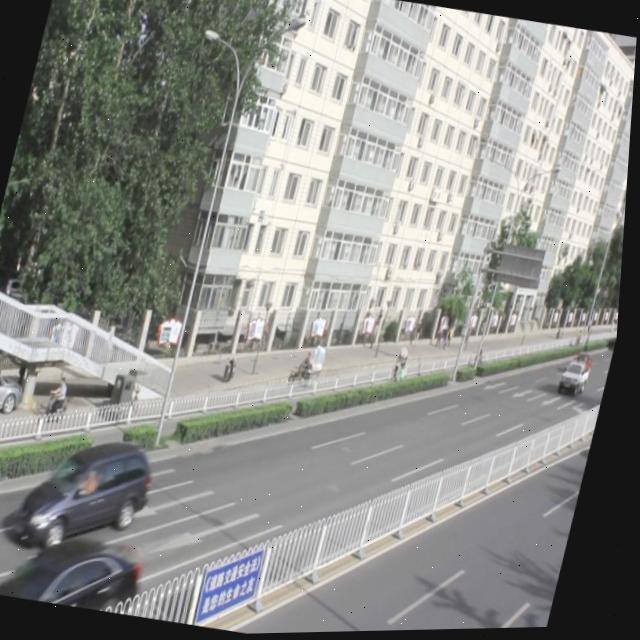car: (17, 425, 166, 560), (0, 517, 154, 618)
